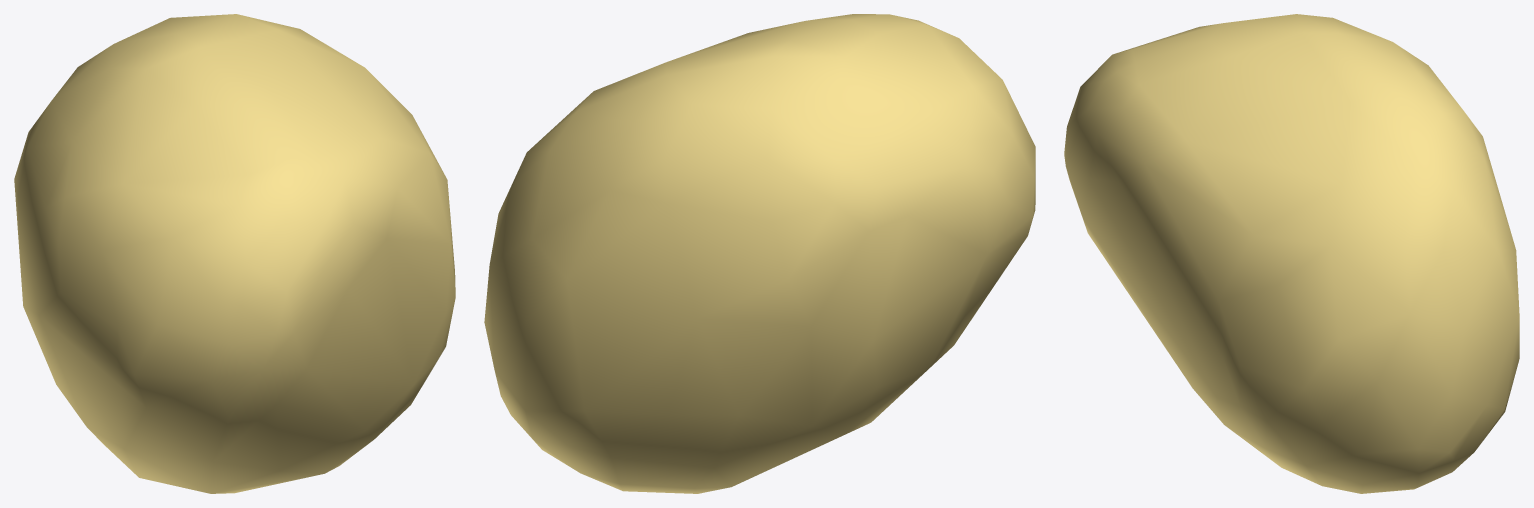
File: fma73434.glb
3 renders of one model, left to right at view 1: azimuth 30°, elevation 25°; view 2: azimuth 150°, elevation 25°; view 3: azimuth 270°, elevation 25°, orthographic. The views are drawn at different scales.
Visible parts, largest first — view 1: FMA73434; view 2: FMA73434; view 3: FMA73434.
Part boxes in pixels (x1,y1,x2,y2): FMA73434: [14, 14, 455, 493]; FMA73434: [484, 14, 1035, 493]; FMA73434: [1064, 14, 1519, 493].
Bounding box in the file's own units: 0.0075 × 0.00735 × 0.00747.
